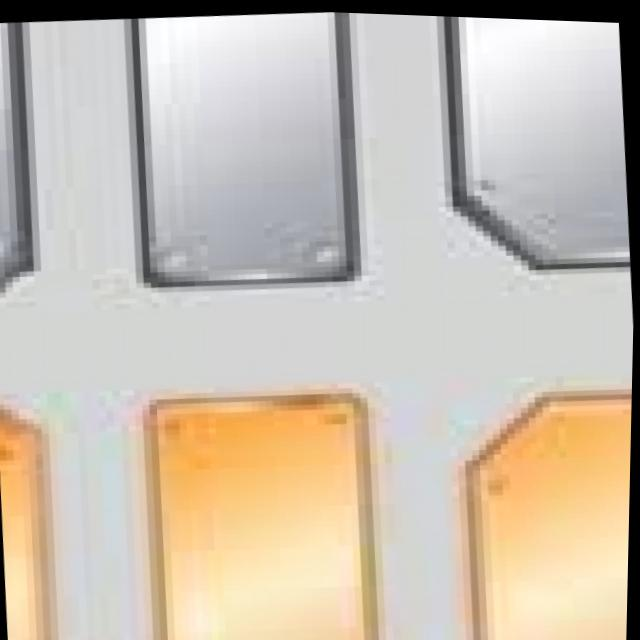metal-plates: (132, 10, 357, 288), (437, 14, 633, 275), (1, 21, 49, 297)
